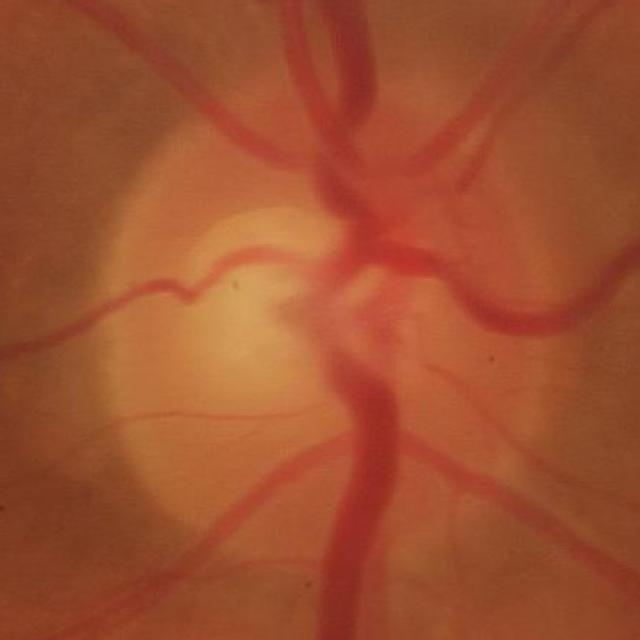OC: (177, 206, 394, 425)
OD: (102, 63, 570, 573)
